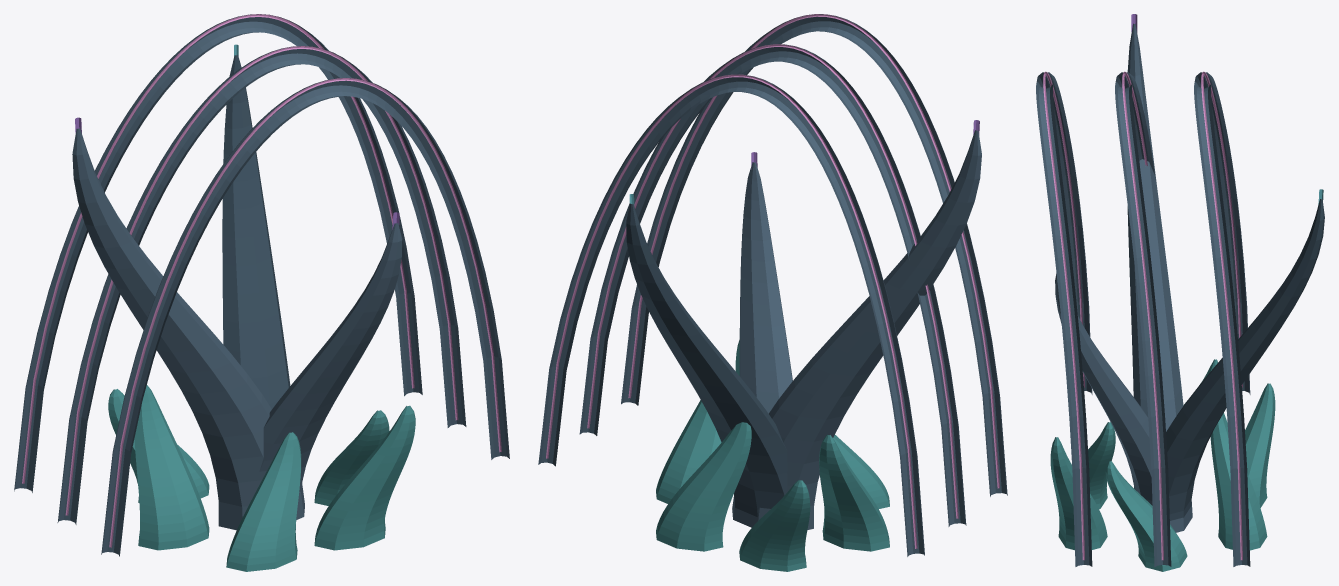
File: hexcore_elven_sanctuary_04.glb
3 renders of one model, left to right at view 1: azimuth 30°, elevation 25°; view 2: azimuth 150°, elevation 25°; view 3: azimuth 270°, elevation 25°, orthographic. The views are drawn at different scales.
Visible parts, largest first — view 1: world; view 2: world; view 3: world.
Boxes of the visible parts, box(x1,y1,x2,y2) form: world: box(14, 14, 509, 571); world: box(538, 14, 1007, 571); world: box(1036, 14, 1324, 571).
Size of the model in its own units: 32.41 by 36.71 by 21.95.
